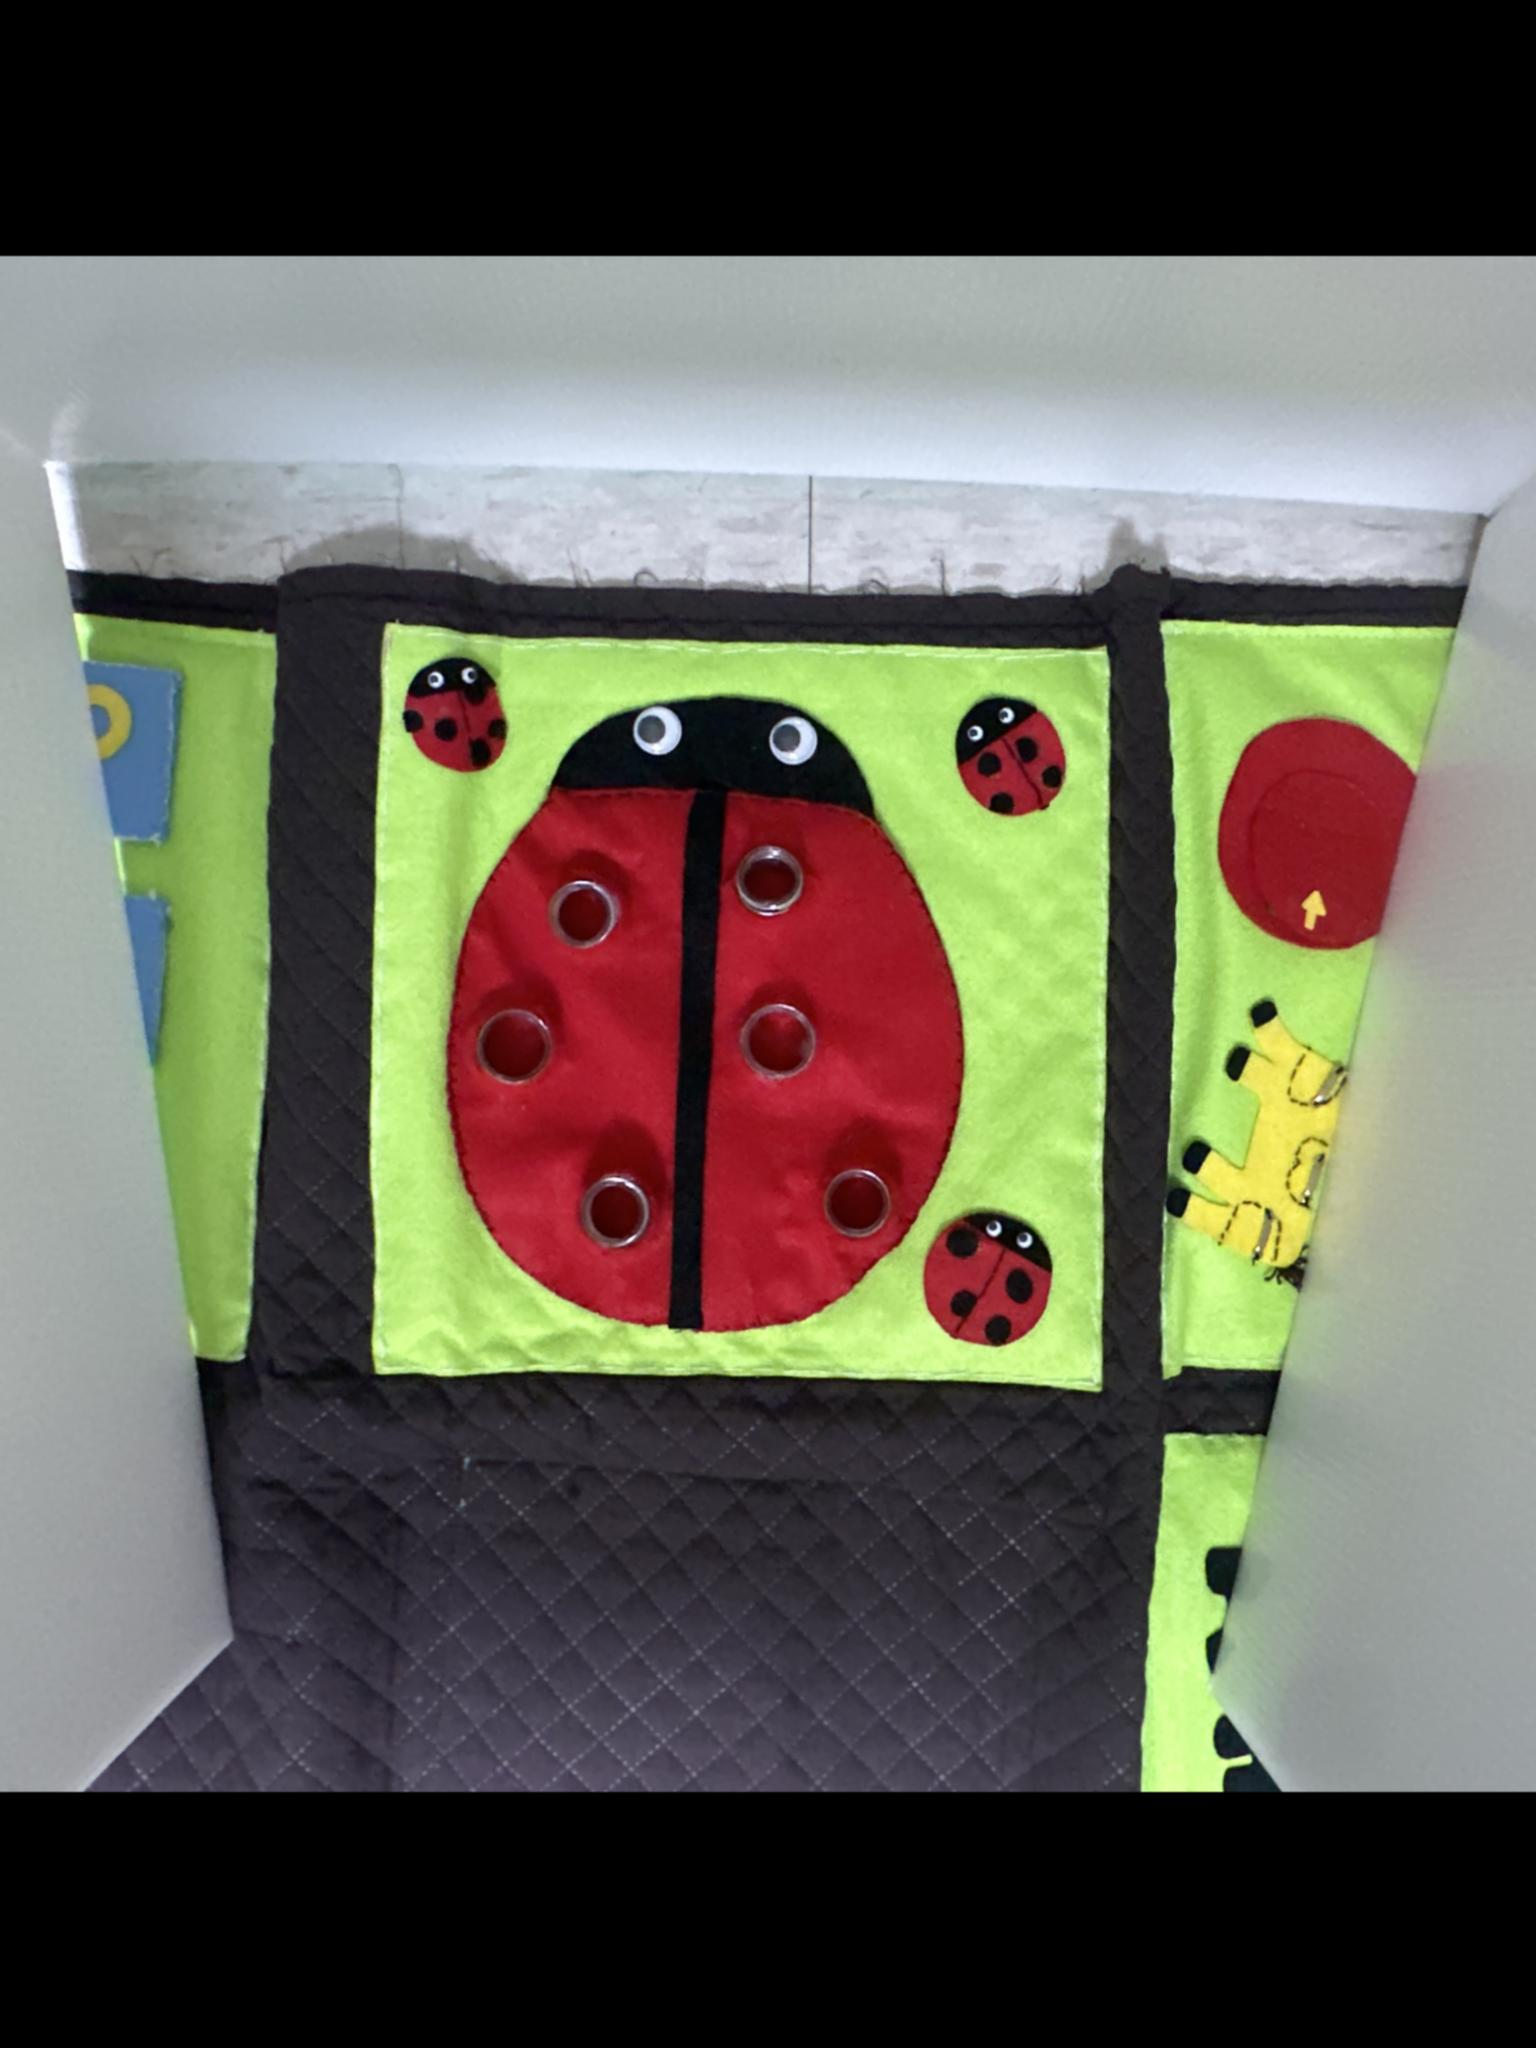hole: (816, 1151, 904, 1248), (741, 989, 821, 1071), (473, 989, 553, 1071), (724, 839, 800, 918), (547, 871, 623, 948), (579, 1168, 652, 1248)
ladybug_case: (445, 684, 968, 1345)
